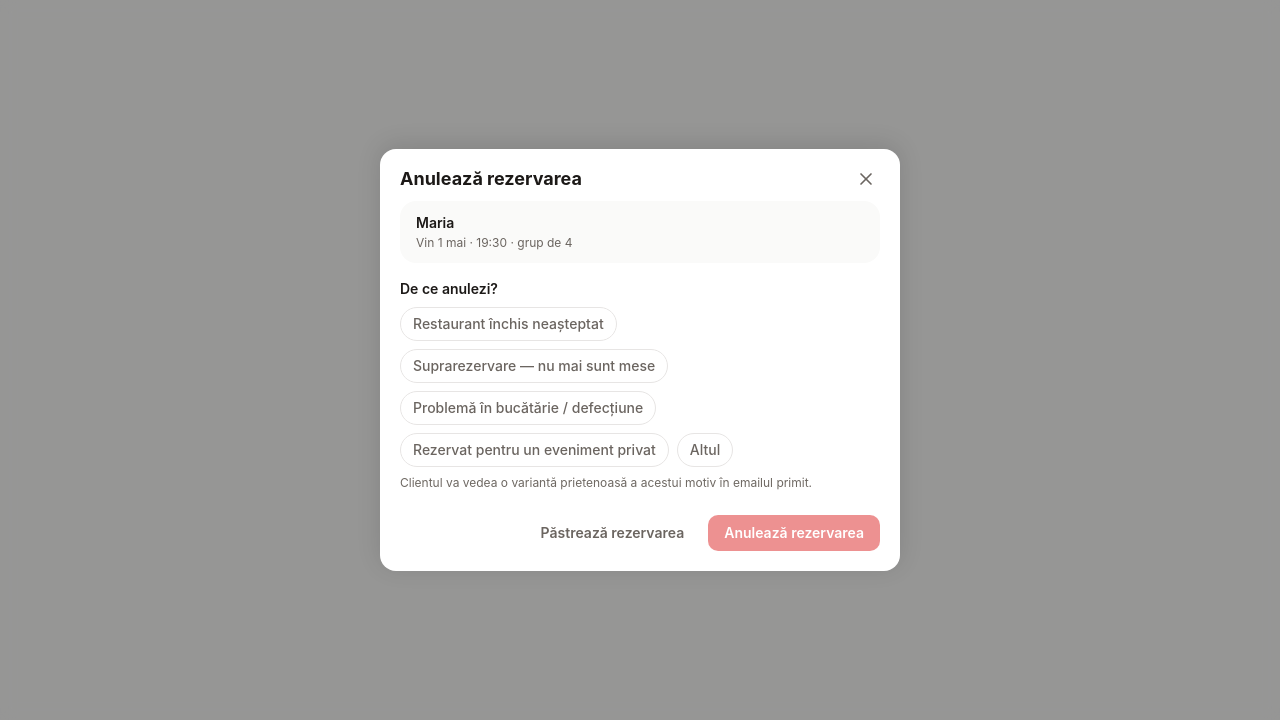
Test: CancelReservationSheet › submit button is disabled until a reason pill is selected
Expected: the button "Anulează rezervarea" is disabled, [708,515,880,551]
What coordinates should you click on to do the following:
click the button "Suprarezervare — nu mai sunt mese"
I would click on:
 (534, 366)
Its box is [400,349,668,383].
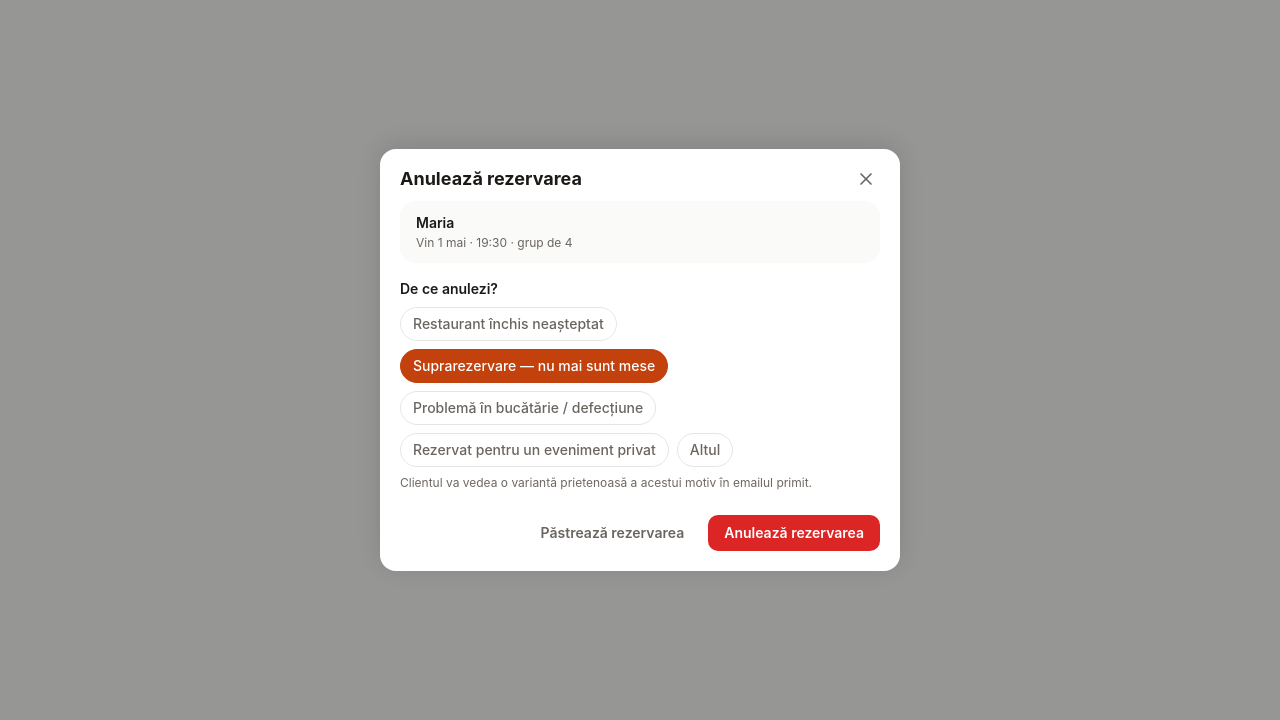
Expected: the button "Anulează rezervarea" is enabled, [708,515,880,551]
